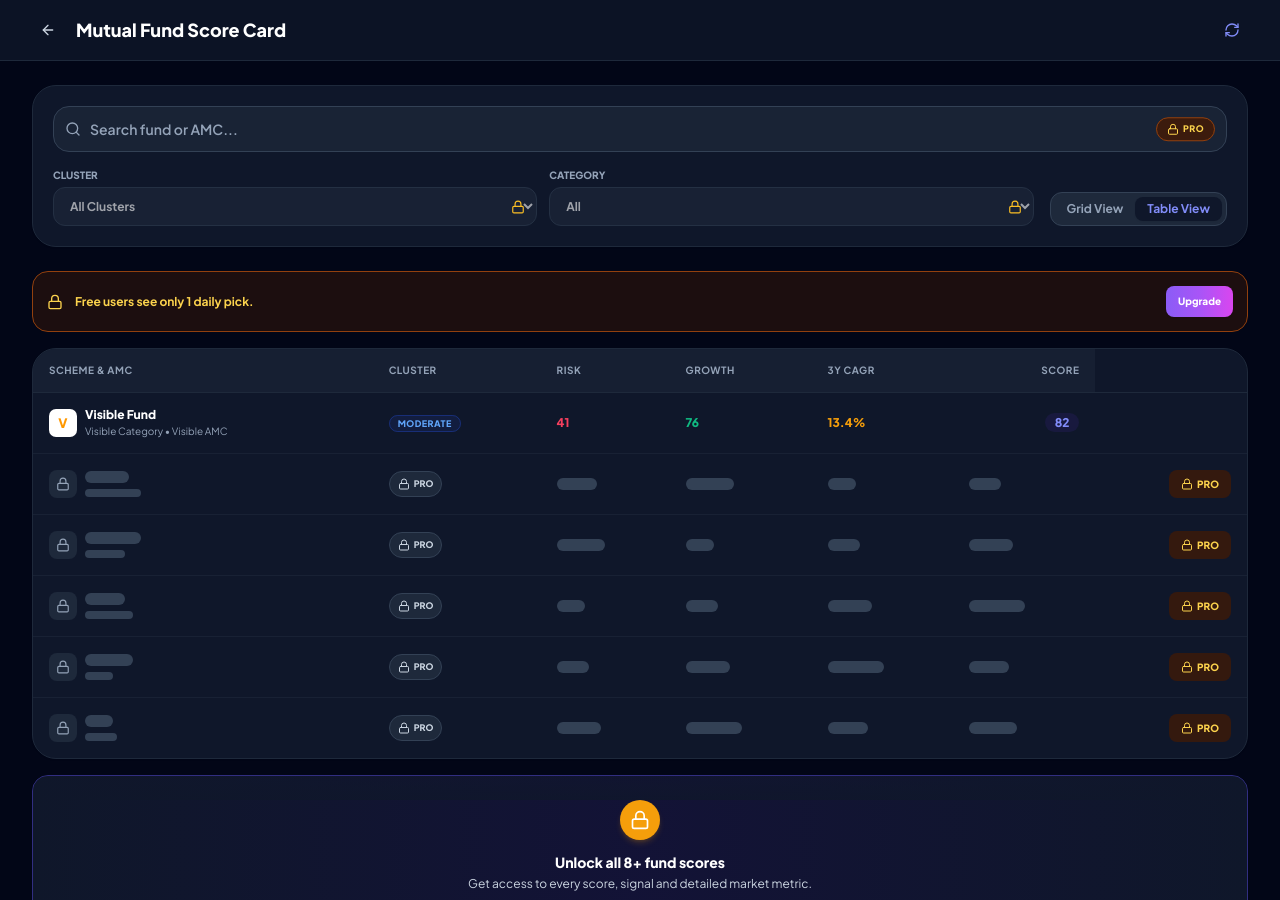
Test: TASK 10 — Insights Tab and Market Screens › 7. Screeners Incremental Rendering & AI Modals › free mutual-fund views render one real fund and hide locked fund data
Expected: the row with test id "mf-card-0" is shown, [33,392,1247,454]
Expected: the text "Visible Fund" is shown, [85,407,156,422]
Step 1. Click the button "Grid View" → [1095, 209], box [1055,197,1135,221]
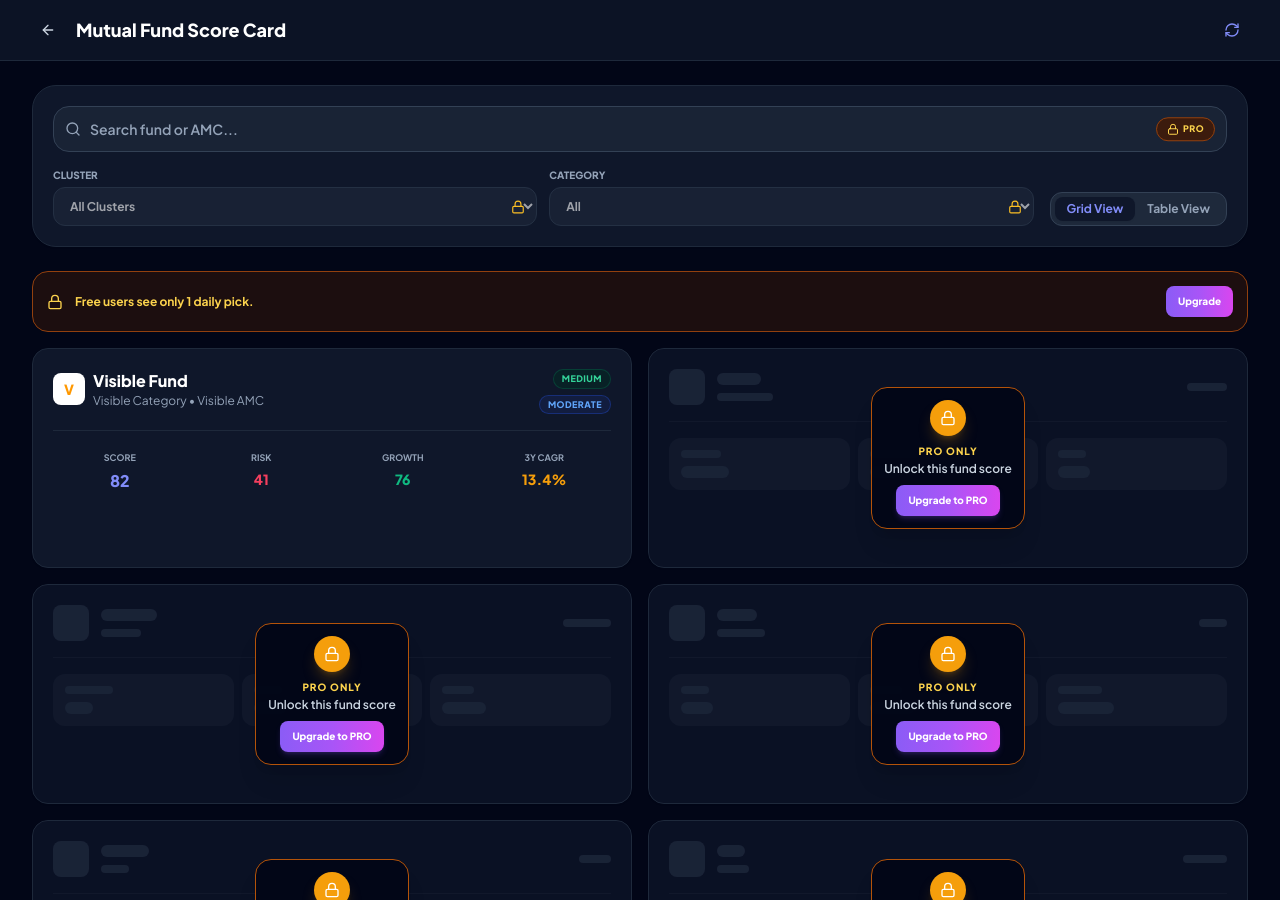
Expected: the element with test id "mf-lock-overlay-1" is shown, [649,349,1247,567]
